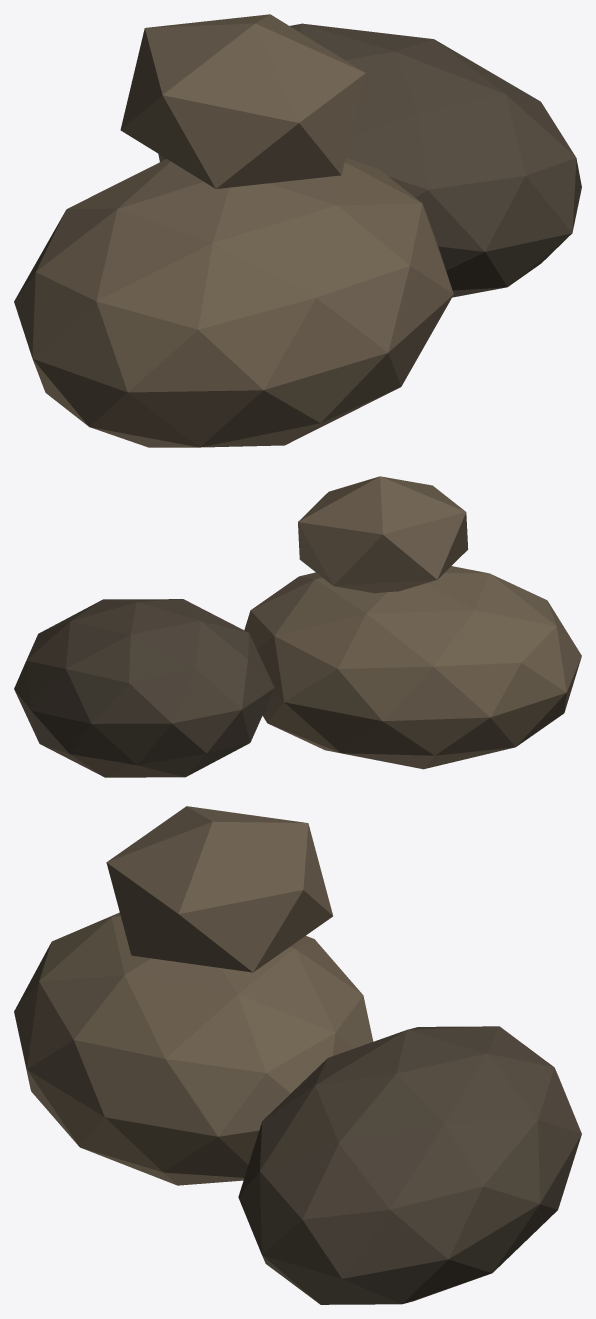
File: cliff_rubble_pile.glb
The picture shows the model from 3 angles, top to bottom: view 1: azimuth 30°, elevation 25°; view 2: azimuth 150°, elevation 25°; view 3: azimuth 270°, elevation 25°; orthographic projection. The views are drawn at different scales.
Parts seen in each view (by area): view 1: cliff_rubble_pile; view 2: cliff_rubble_pile; view 3: cliff_rubble_pile.
Part boxes in pixels (bbox=[...]): cliff_rubble_pile: bbox=[14, 14, 581, 447]; cliff_rubble_pile: bbox=[14, 476, 581, 777]; cliff_rubble_pile: bbox=[14, 806, 581, 1304].
Bounding box in the file's own units: 1.47 × 0.8466 × 1.25.
